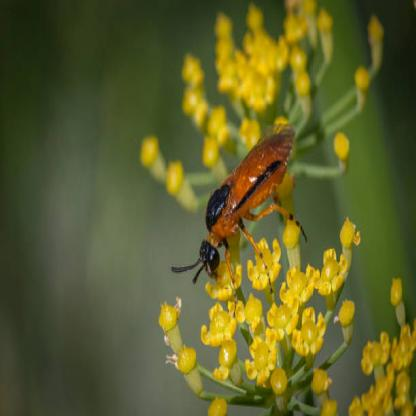sawfly: (168, 126, 315, 292)
